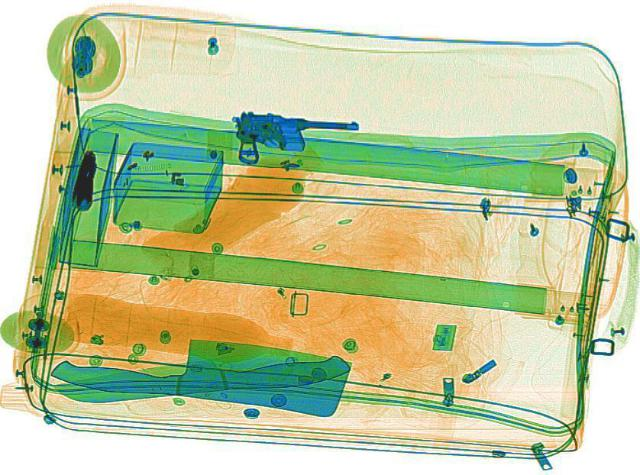Gun: (222, 109, 358, 169), (71, 149, 97, 209)
Knife: (47, 319, 353, 417), (47, 348, 351, 405)
